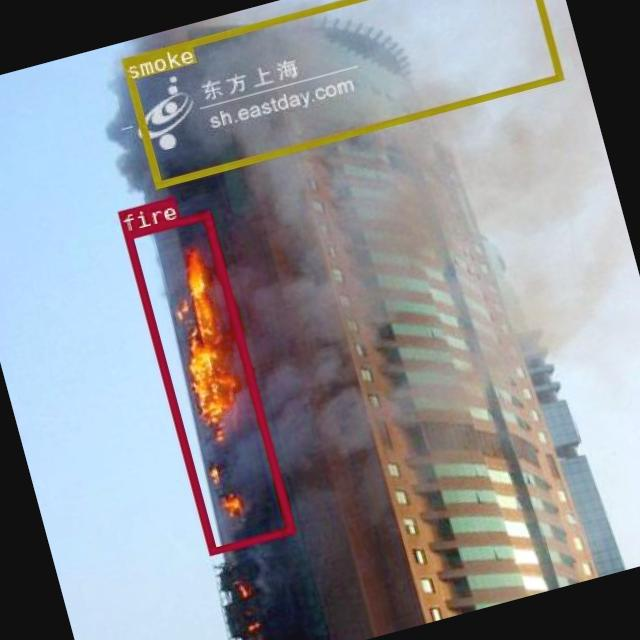fire: (122, 211, 294, 554)
smoke: (119, 0, 562, 186)
